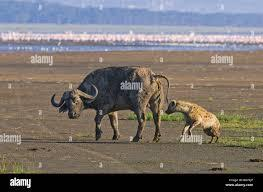Buffalo: (46, 61, 167, 145)
hyenas: (166, 93, 228, 150)
